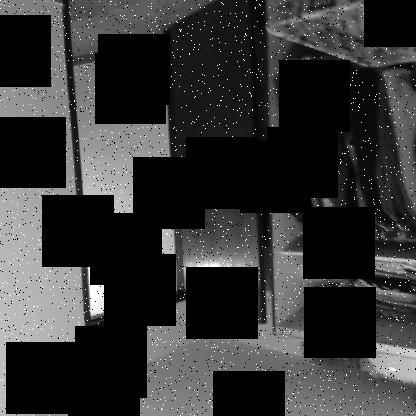Porte: (59, 1, 270, 336)
